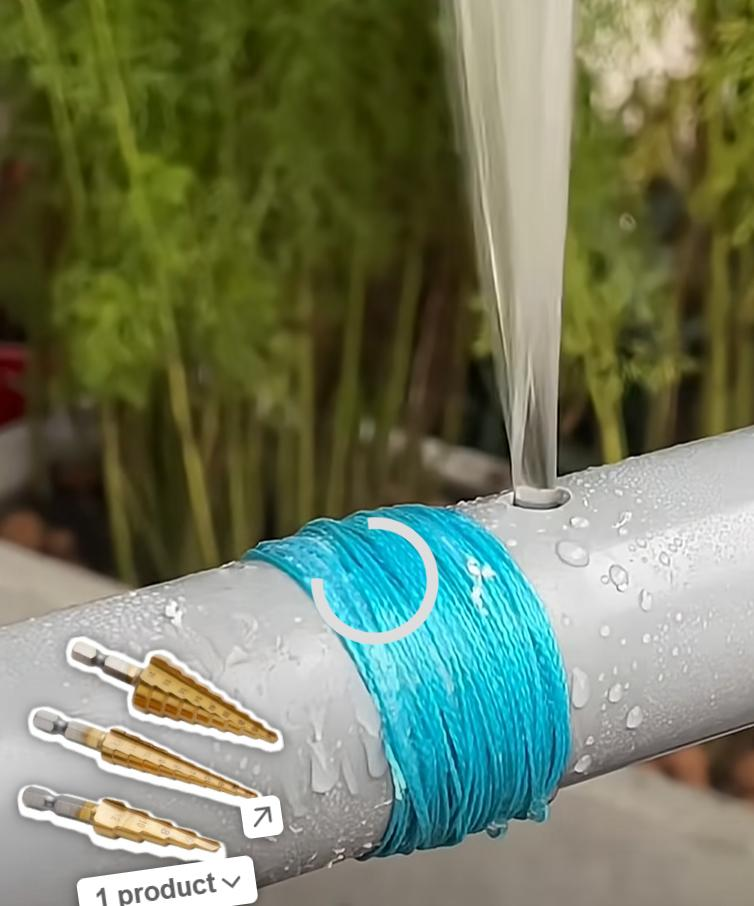pipe burst: (443, 0, 585, 520)
